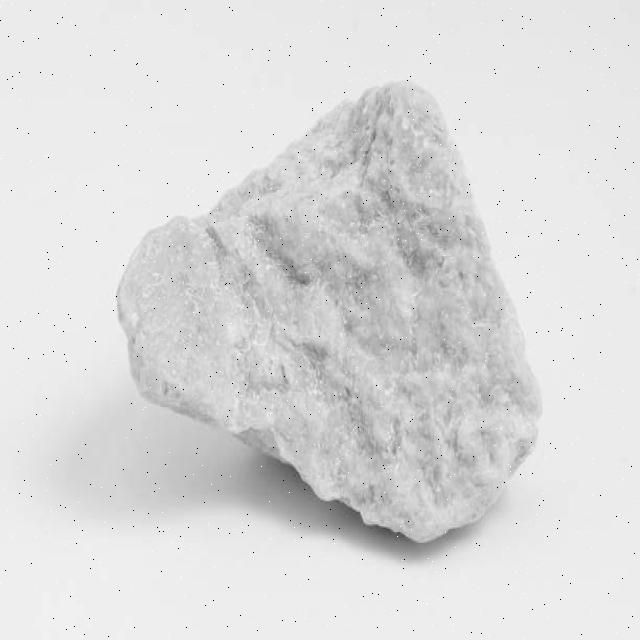Metamorphic: (115, 65, 555, 563)
